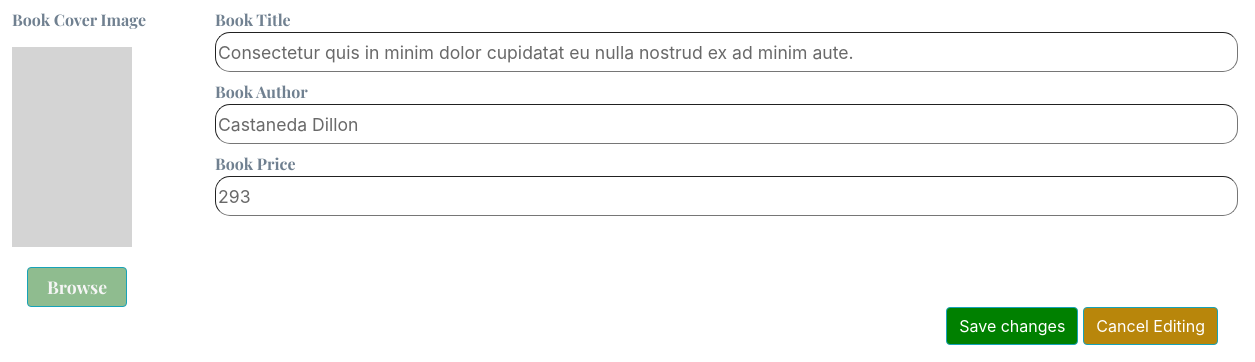
it: Update book form component tests › Update book form validation with negative price test
Replace the text in the number field with test id "edit-book-input-price" with "-100" at (726, 196), box x1=215 y1=176 x2=1238 y2=216
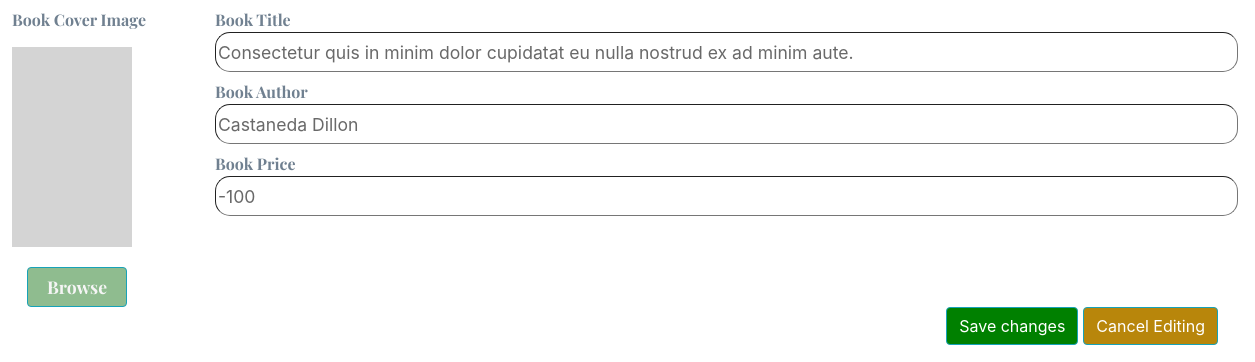
Click the button with test id "save-edit-book-btn".
click(1012, 326)  # box x1=946 y1=307 x2=1078 y2=345
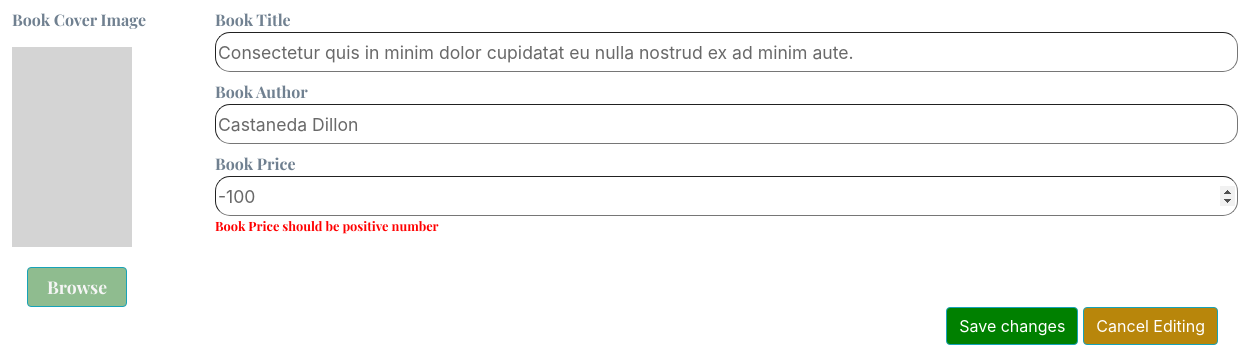
Expected: the text "Book Price should be positive number" is shown, x1=215 y1=217 x2=438 y2=234
